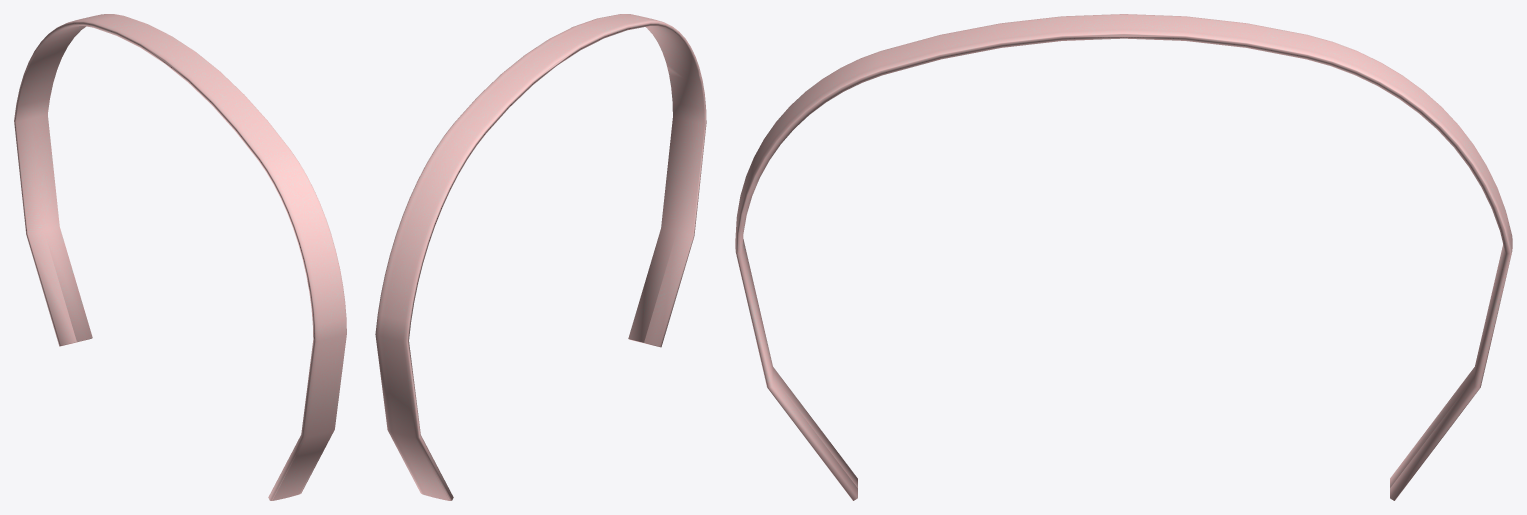
File: original-4.obj
The picture shows the model from 3 angles, left to right: view 1: azimuth 30°, elevation 25°; view 2: azimuth 150°, elevation 25°; view 3: azimuth 270°, elevation 25°; orthographic projection. The views are drawn at different scales.
Visible parts, largest first — view 1: mesh23/mesh23-geometry#mesh23-geometry; view 2: mesh23/mesh23-geometry#mesh23-geometry; view 3: mesh23/mesh23-geometry#mesh23-geometry.
Part boxes in pixels (<box>): mesh23/mesh23-geometry#mesh23-geometry: <box>14,14,346,500</box>; mesh23/mesh23-geometry#mesh23-geometry: <box>375,14,706,500</box>; mesh23/mesh23-geometry#mesh23-geometry: <box>735,14,1512,500</box>.
Bounding box in the file's own units: 0.0623 × 0.6847 × 1.03.
